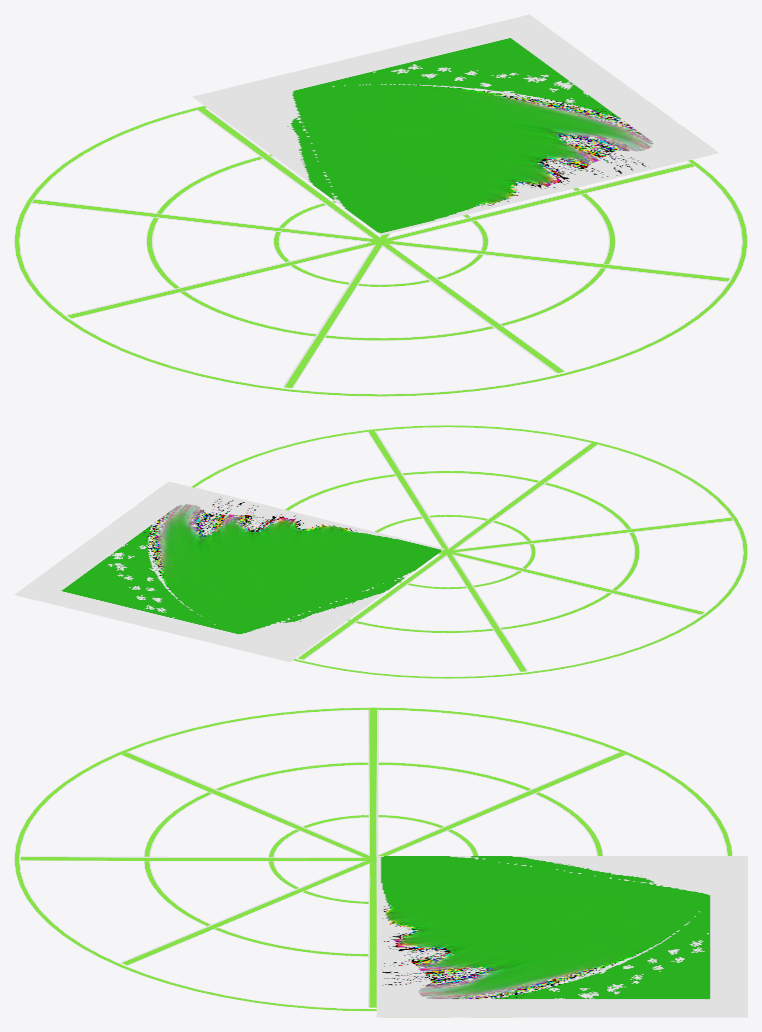
File: bigScan.FBX
The picture shows the model from 3 angles, top to bottom: view 1: azimuth 30°, elevation 25°; view 2: azimuth 150°, elevation 25°; view 3: azimuth 270°, elevation 25°; orthographic projection. The views are drawn at different scales.
Visible parts, largest first — view 1: scanBeam, scanBase; view 2: scanBeam, scanBase; view 3: scanBeam, scanBase.
Part boxes in pixels (x1=…): scanBeam: x1=192, y1=14, x2=718, y2=235; scanBase: x1=14, y1=106, x2=747, y2=396; scanBeam: x1=14, y1=481, x2=444, y2=662; scanBase: x1=191, y1=425, x2=747, y2=678; scanBeam: x1=376, y1=856, x2=747, y2=1017; scanBase: x1=14, y1=707, x2=732, y2=1011.
Size of the model in its own units: 133 by 0.8708 by 131.
